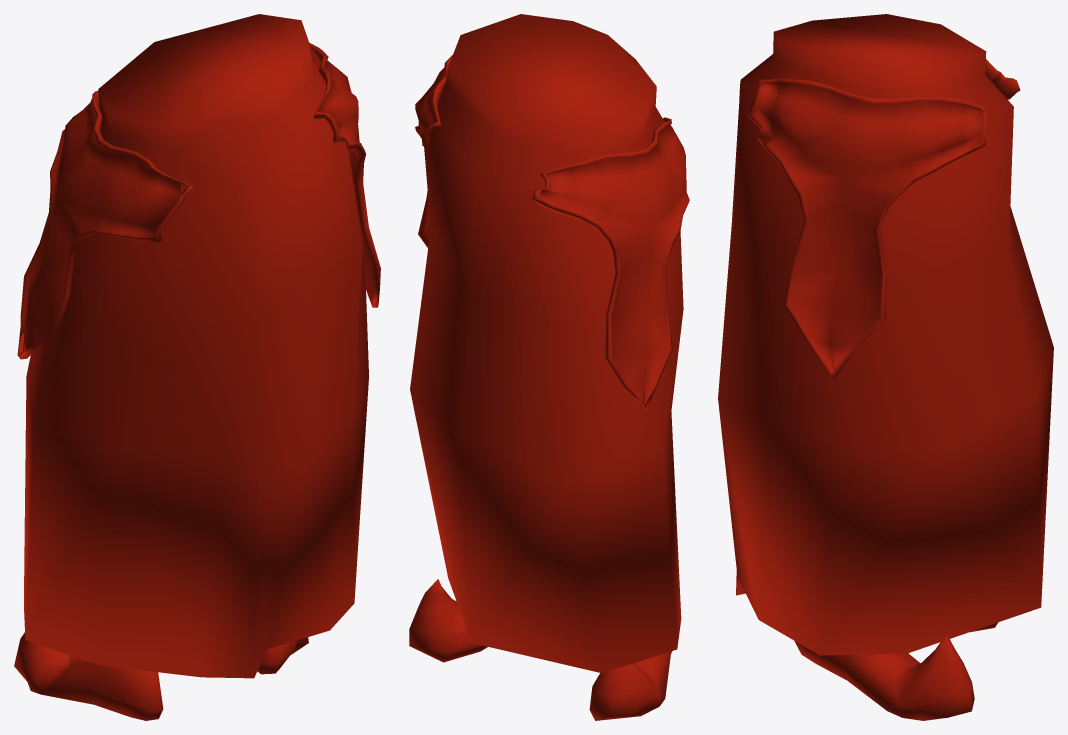
Rendered from bot_000134.obj.
3 views of the same model, side by side, from view 1: azimuth 30°, elevation 25°; view 2: azimuth 150°, elevation 25°; view 3: azimuth 270°, elevation 25° (orthographic). The views are drawn at different scales.
Parts seen in each view (by area): view 1: LowPoly_Warlock.004_Plane.004; view 2: LowPoly_Warlock.004_Plane.004; view 3: LowPoly_Warlock.004_Plane.004.
Part boxes in pixels (x1,y1,x2,y2): LowPoly_Warlock.004_Plane.004: (14,14,380,720); LowPoly_Warlock.004_Plane.004: (409,14,689,720); LowPoly_Warlock.004_Plane.004: (718,14,1053,720).
Size of the model in its own units: 0.5629 by 1.15 by 0.5265.
